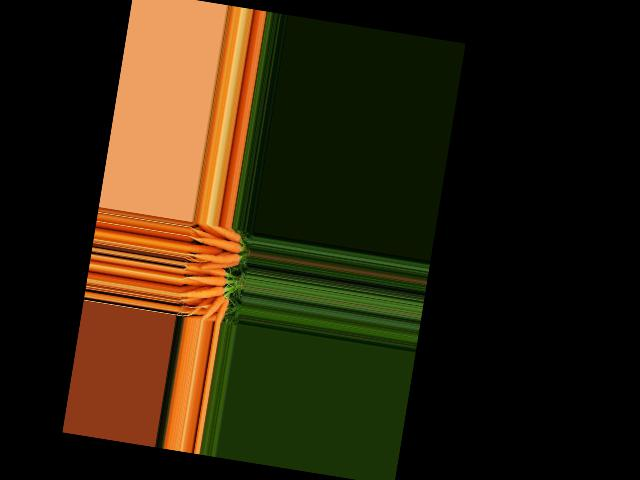carrot: (189, 232, 242, 255)
